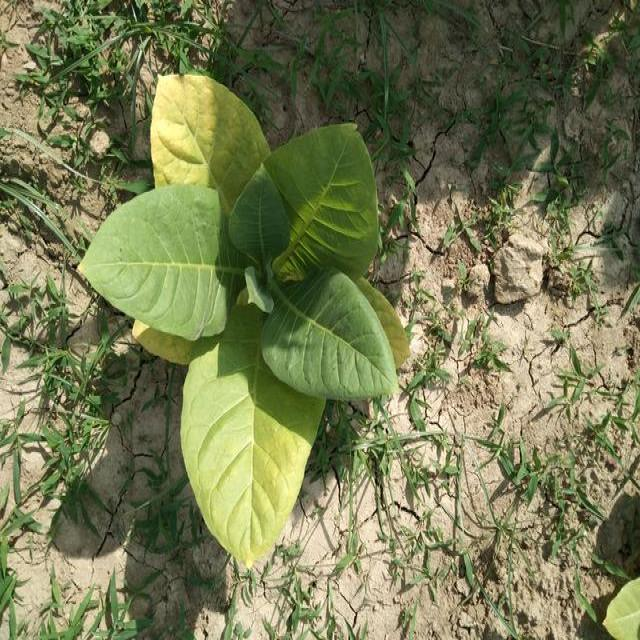crop: (76, 66, 418, 581)
